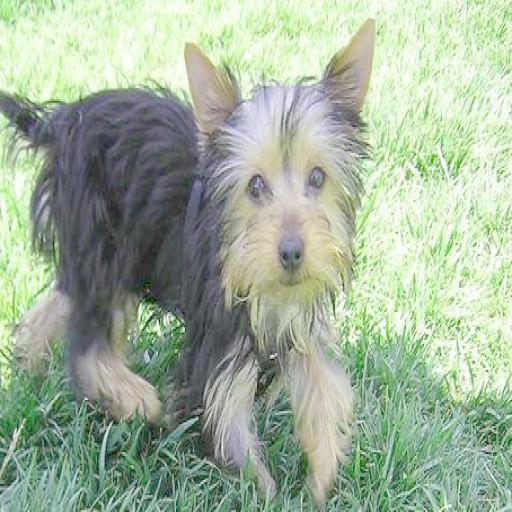dog_face: (180, 30, 379, 329)
